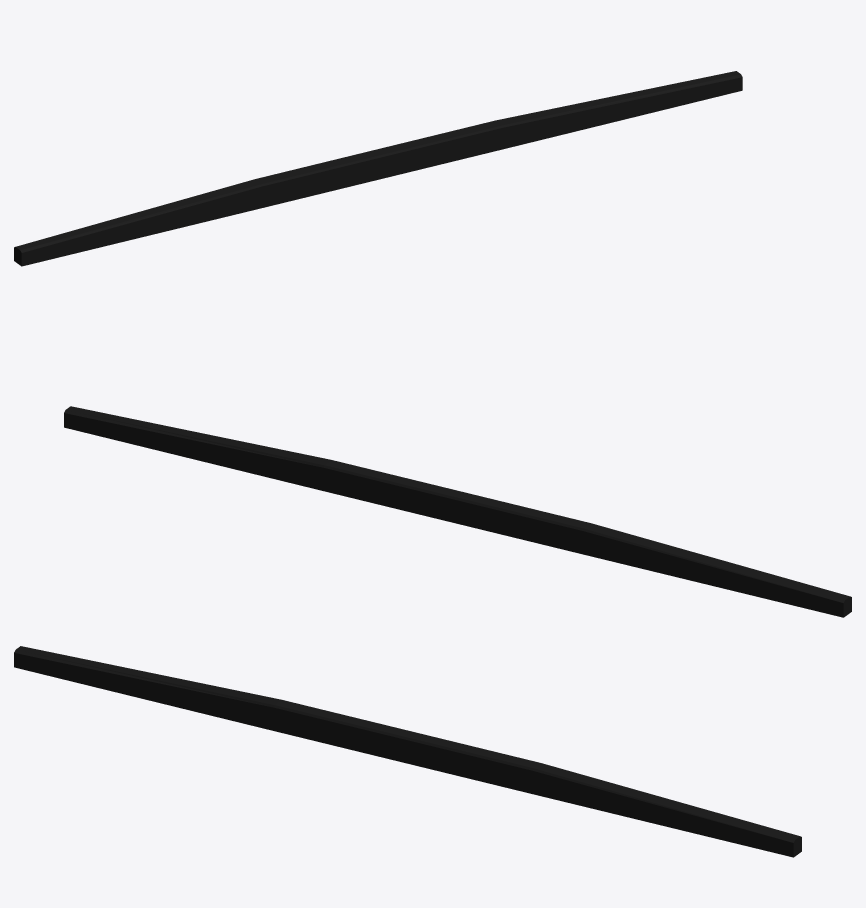
Rendered from Veh_YuShua_L_off.FBX.
3 views of the same model, one above another, from view 1: azimuth 30°, elevation 25°; view 2: azimuth 150°, elevation 25°; view 3: azimuth 330°, elevation 25° (orthographic). The views are drawn at different scales.
Parts seen in each view (by area): view 1: Box004; view 2: Box004; view 3: Box004.
Boxes of the visible parts, x1,y1,x2,y2 form: Box004: (14, 71, 742, 266); Box004: (64, 406, 851, 617); Box004: (14, 646, 801, 857).
Size of the model in its own units: 3.51 by 0.3197 by 0.3537.
